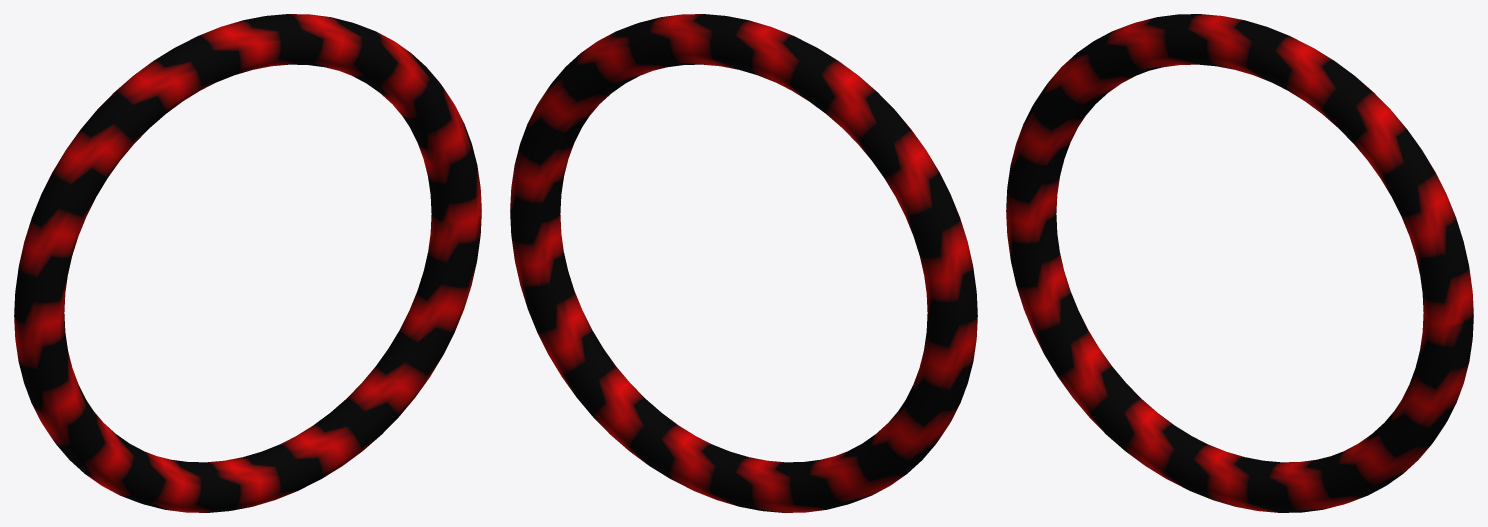
The model's file is prop-ring.glb.
The picture shows the model from 3 angles, left to right: view 1: azimuth 30°, elevation 25°; view 2: azimuth 150°, elevation 25°; view 3: azimuth 330°, elevation 25°; orthographic projection.
Parts seen in each view (by area): view 1: ringMesh; view 2: ringMesh; view 3: ringMesh.
Part boxes in pixels (bbox=[...]): ringMesh: bbox=[14, 14, 481, 512]; ringMesh: bbox=[510, 14, 977, 512]; ringMesh: bbox=[1006, 14, 1473, 512].
Bounding box in the file's own units: 4.2 × 4.2 × 0.3999.
